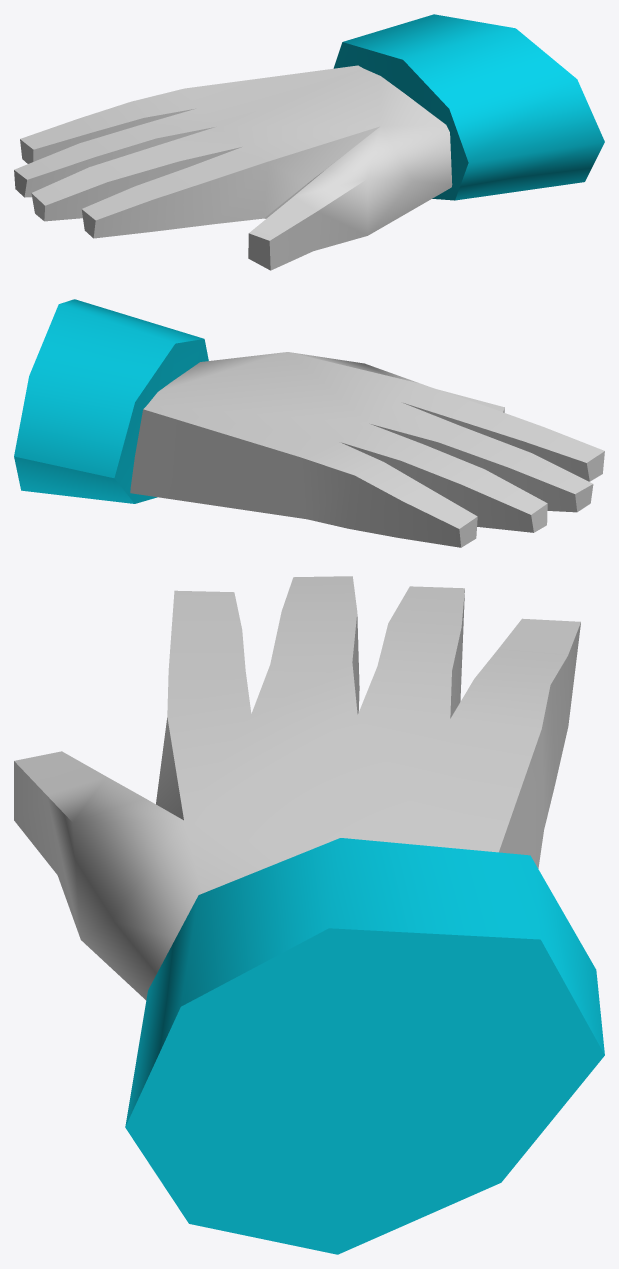
Rendered from Hand.fbx.
The picture shows the model from 3 angles, top to bottom: view 1: azimuth 30°, elevation 25°; view 2: azimuth 150°, elevation 25°; view 3: azimuth 270°, elevation 25°; orthographic projection. The views are drawn at different scales.
Parts seen in each view (by area): view 1: Hand; view 2: Hand; view 3: Hand.
Part boxes in pixels (x1=…): Hand: x1=14, y1=14, x2=604, y2=270; Hand: x1=14, y1=299, x2=604, y2=547; Hand: x1=14, y1=576, x2=604, y2=1254.
Bounding box in the file's own units: 215 × 63.66 × 109.
